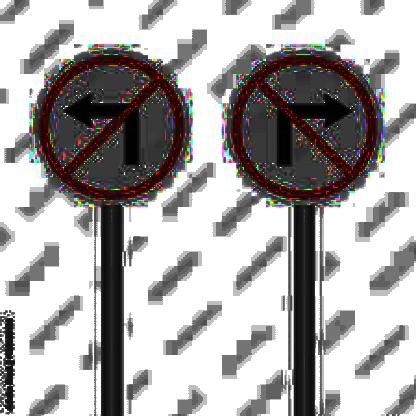No left turn: (40, 48, 188, 200)
